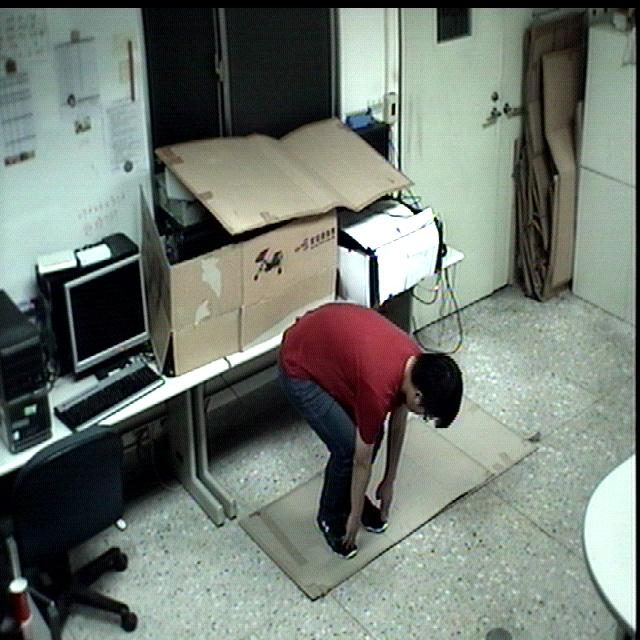bend: (273, 290, 468, 565)
